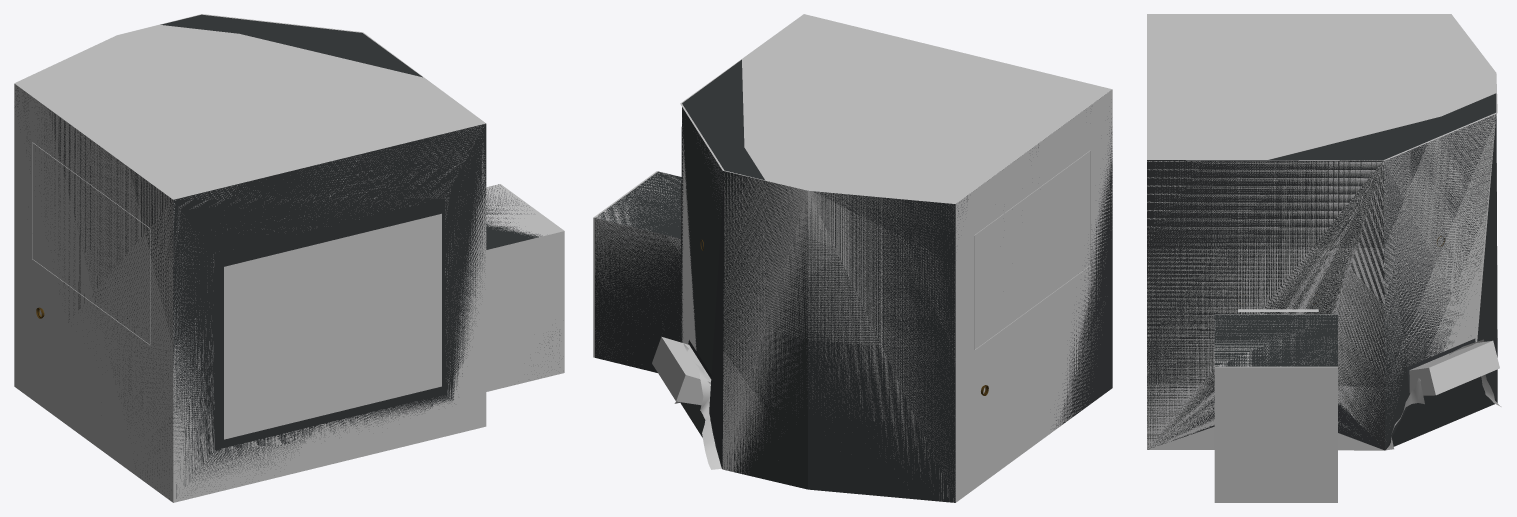
The model's file is Room v2.2.fbx.
3 views of the same model, side by side, from view 1: azimuth 30°, elevation 25°; view 2: azimuth 150°, elevation 25°; view 3: azimuth 270°, elevation 25° (orthographic). The views are drawn at different scales.
Parts seen in each view (by area): view 1: Walls, Shell, Roof.001, Minimap; view 2: Shell, Walls, Roof.001, Coal Pile; view 3: Shell, Walls, Roof.001, Coal Pile.
Part boxes in pixels (x1,y1,x2,y2): Walls: (14,84,564,502); Shell: (14,14,560,498); Roof.001: (14,14,485,199); Minimap: (224,213,441,439); Shell: (595,59,1112,502); Walls: (593,89,1112,502); Roof.001: (680,14,1111,203); Coal Pile: (674,344,721,469); Shell: (1147,93,1497,450); Walls: (1147,114,1499,502); Roof.001: (1147,14,1497,160); Coal Pile: (1386,339,1501,450).
Size of the model in its own units: 322 by 217 by 245.
